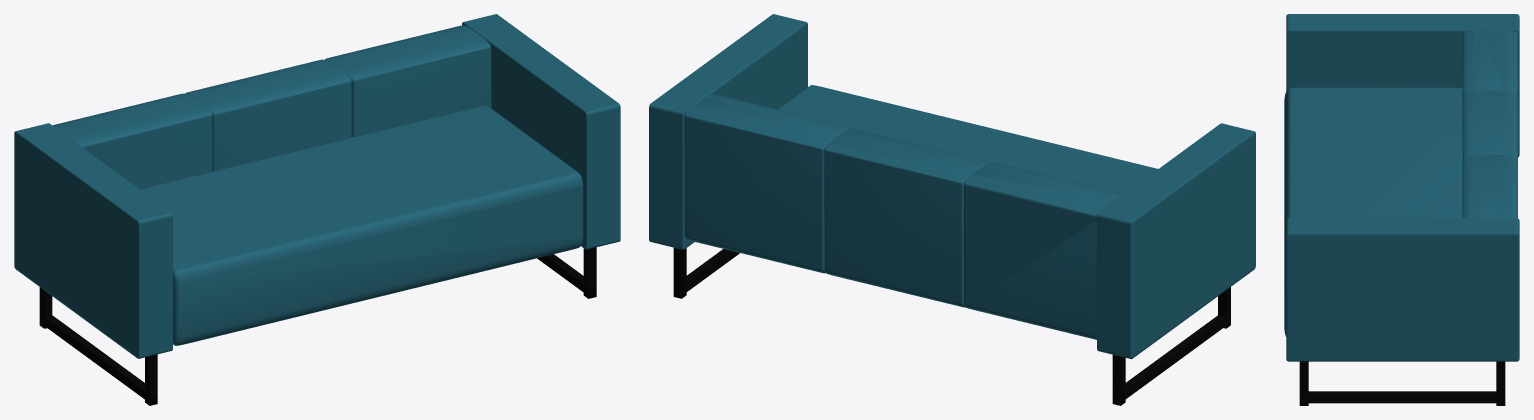
Rendered from Sofa.fbx.
3 renders of one model, left to right at view 1: azimuth 30°, elevation 25°; view 2: azimuth 150°, elevation 25°; view 3: azimuth 270°, elevation 25°, orthographic. The views are drawn at different scales.
Visible parts, largest first — view 1: Cube.003; view 2: Cube.003; view 3: Cube.003.
Boxes of the visible parts, box(x1,y1,x2,y2) form: Cube.003: box(14, 14, 620, 405); Cube.003: box(649, 14, 1255, 405); Cube.003: box(1284, 14, 1519, 405).
Bounding box in the file's own units: 174 × 66.65 × 78.58.
